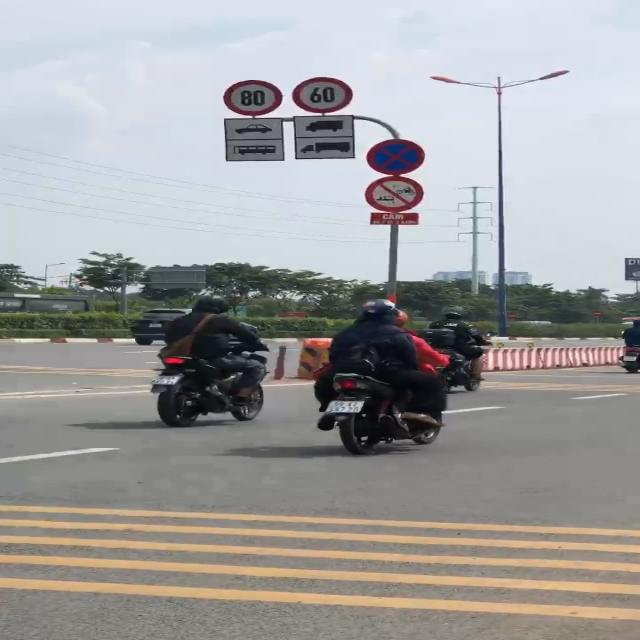Bien bao cam dung xe va do xe: (363, 137, 435, 176)
Bien bao toc do toi da cho phep: (285, 72, 360, 115), (215, 77, 284, 116)
